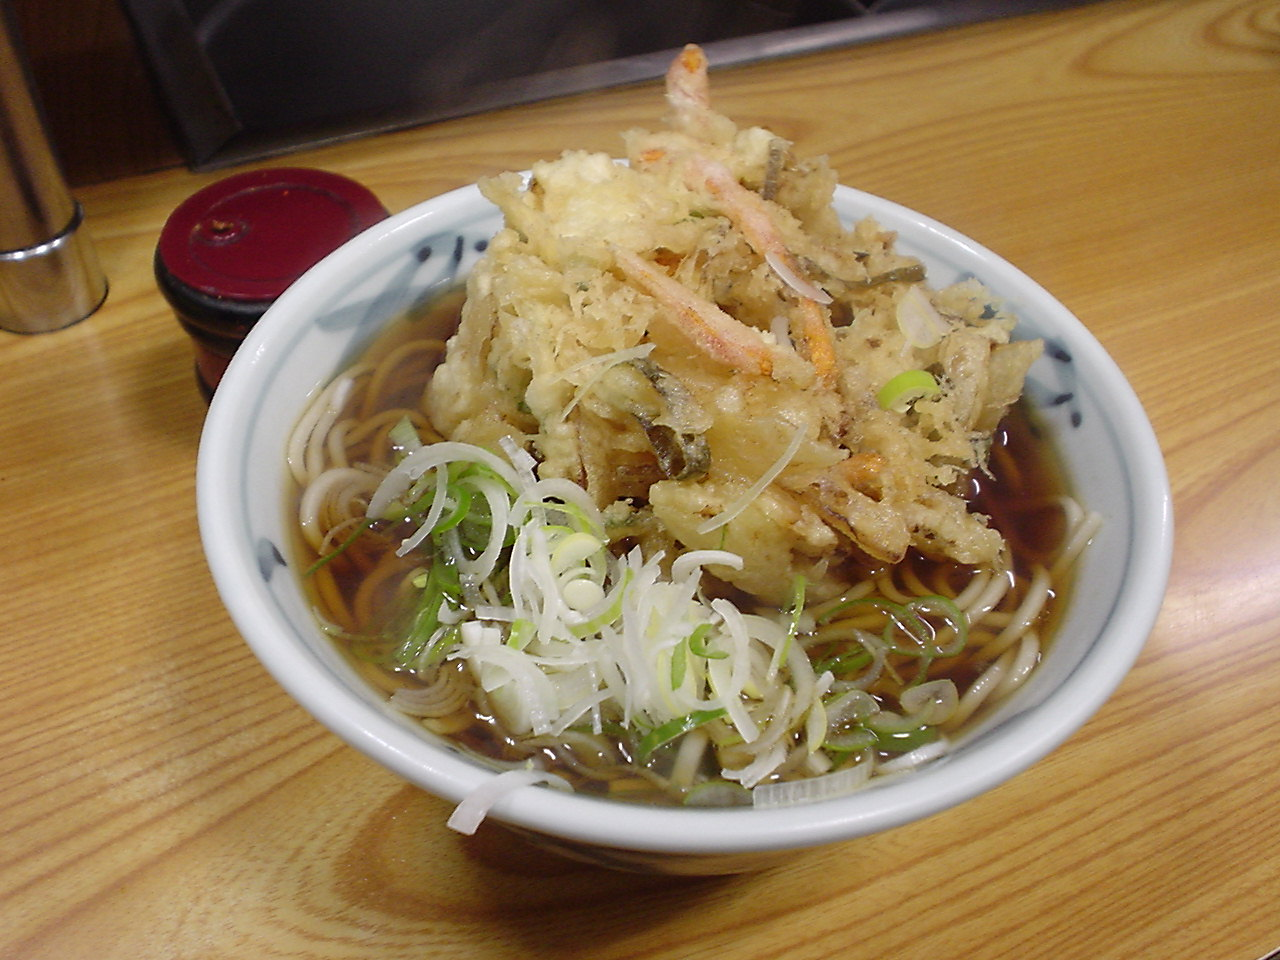Soba: (334, 356, 1063, 787)
